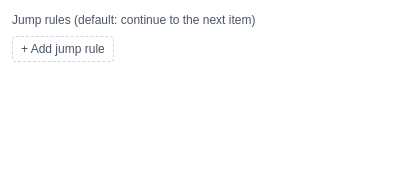
Test: M4 branch editing regression › adds each choice trigger once, stops at exhaustion and frees a removed trigger
This screenshot has width=401, height=172.
Later steps or results of the test are not shown.
Click the button "+ Add jump rule": (63, 49) [12, 36, 114, 62]
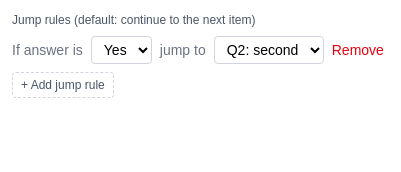
Click the button "+ Add jump rule": (63, 85) [12, 72, 114, 98]
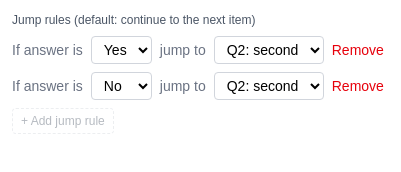
Now the button "+ Add jump rule" is disabled, box [12, 108, 114, 134]
